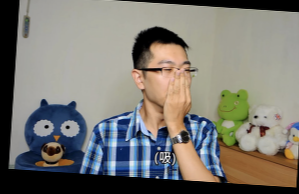with_mask: (144, 56, 192, 110)
